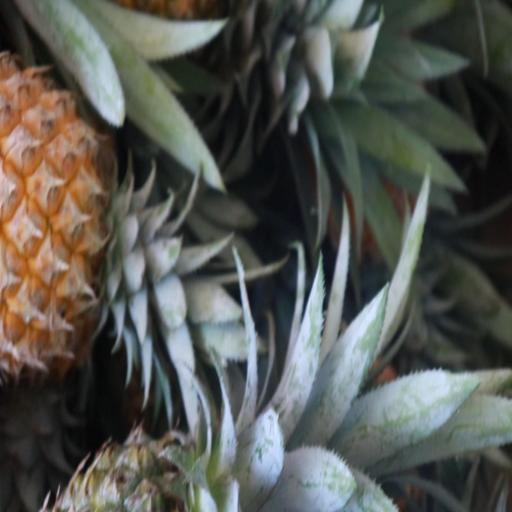Pineapple - v8 v1: (0, 56, 154, 368)
